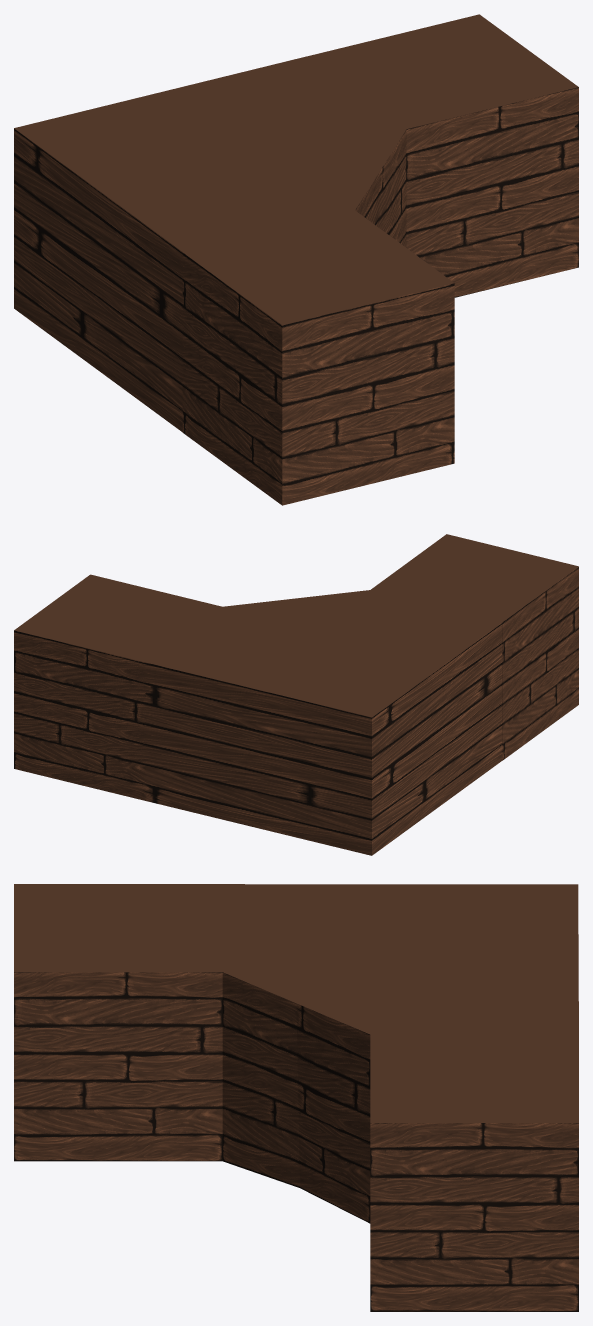
Rendered from Muro_angolo.fbx.
3 views of the same model, one above another, from view 1: azimuth 30°, elevation 25°; view 2: azimuth 150°, elevation 25°; view 3: azimuth 270°, elevation 25° (orthographic). The views are drawn at different scales.
Visible parts, largest first — view 1: Muro_angolo; view 2: Muro_angolo; view 3: Muro_angolo.
Part boxes in pixels (left/top/right/bottom): Muro_angolo: left=14, top=14, right=578, bottom=505; Muro_angolo: left=14, top=534, right=578, bottom=855; Muro_angolo: left=14, top=884, right=578, bottom=1311.
Size of the model in its own units: 541 by 200 by 541.
2 materials, 2 textured.
